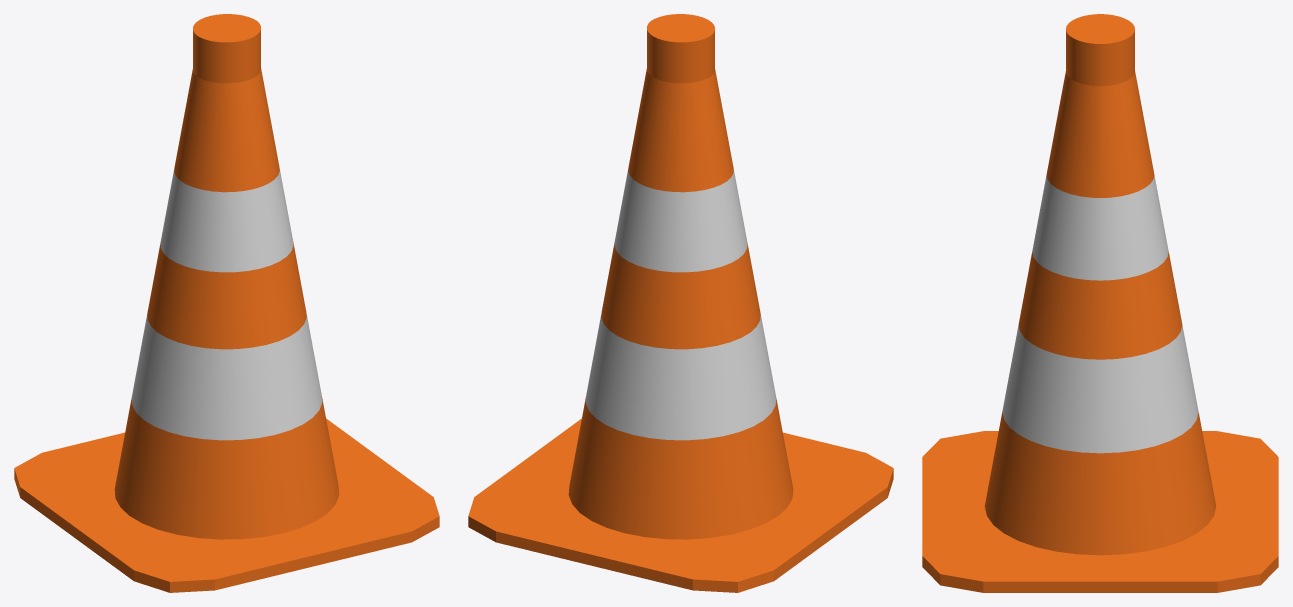
Rendered from conе.fbx.
3 renders of one model, left to right at view 1: azimuth 30°, elevation 25°; view 2: azimuth 150°, elevation 25°; view 3: azimuth 270°, elevation 25°, orthographic. The views are drawn at different scales.
Visible parts, largest first — view 1: conus; view 2: conus; view 3: conus.
Boxes of the visible parts, x1,y1,x2,y2 form: conus: (14, 14, 439, 592); conus: (468, 14, 893, 592); conus: (922, 14, 1278, 592).
Bounding box in the file's own units: 30.07 × 45.52 × 30.07.
